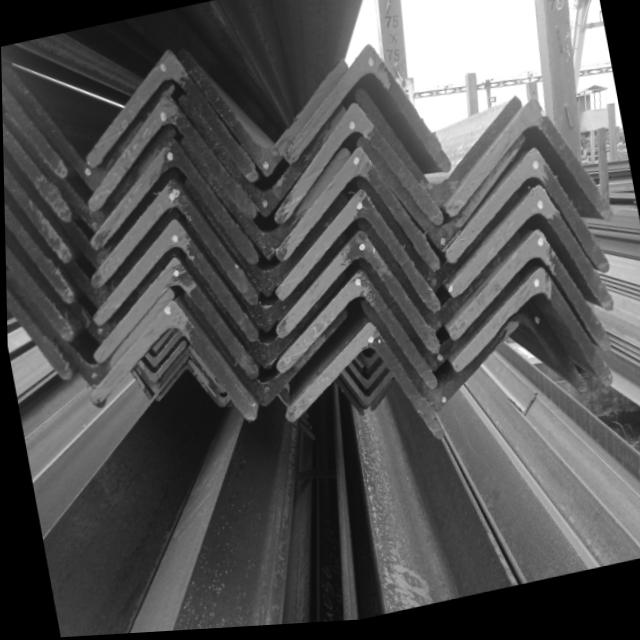metal-angles: (87, 52, 257, 184), (1, 67, 174, 193), (90, 180, 256, 309), (88, 95, 257, 221), (90, 140, 257, 267), (180, 53, 348, 179), (285, 50, 451, 177), (445, 103, 611, 229), (447, 192, 612, 318), (274, 107, 443, 230), (276, 151, 440, 277), (178, 98, 344, 220), (446, 154, 609, 278), (181, 141, 348, 262), (275, 194, 439, 317), (448, 236, 610, 360), (93, 222, 256, 345), (5, 113, 174, 231), (90, 304, 254, 425), (276, 235, 438, 357), (93, 262, 257, 382), (5, 272, 173, 387), (356, 94, 521, 211), (356, 142, 525, 256), (452, 274, 611, 395), (184, 182, 347, 300), (181, 295, 347, 410), (276, 274, 436, 392), (285, 327, 442, 444), (360, 305, 519, 419), (360, 225, 520, 337), (359, 265, 519, 377), (185, 226, 346, 335), (186, 267, 343, 372), (358, 183, 500, 296), (2, 123, 71, 223), (1, 83, 67, 178)
